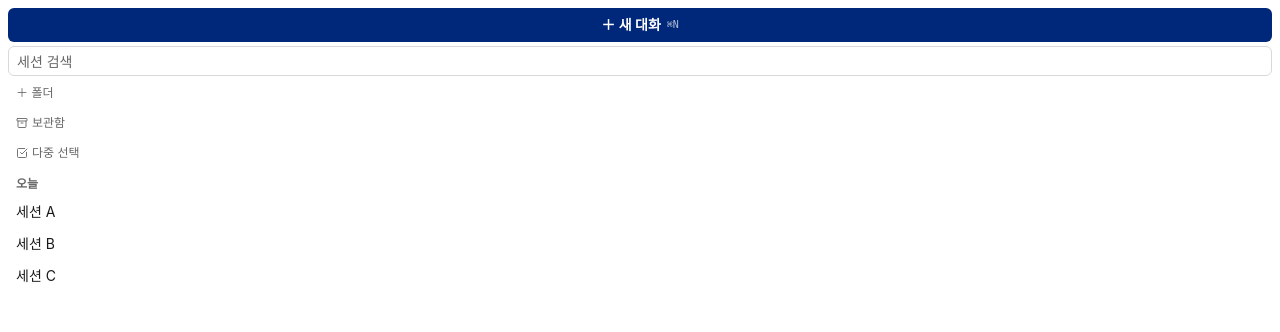
Test: SessionList › 선택 모드에서 체크박스로 3개 선택 후 일괄 보관하면 3건 모두 목록에서 사라진다(P20-T6-08)
Expected: the button "세션 A" is shown, [16,202,1264,222]
Expected: the button "세션 B" is shown, [16,234,1264,254]
Click the button "다중 선택" at (56, 152), box [8,140,1272,166]
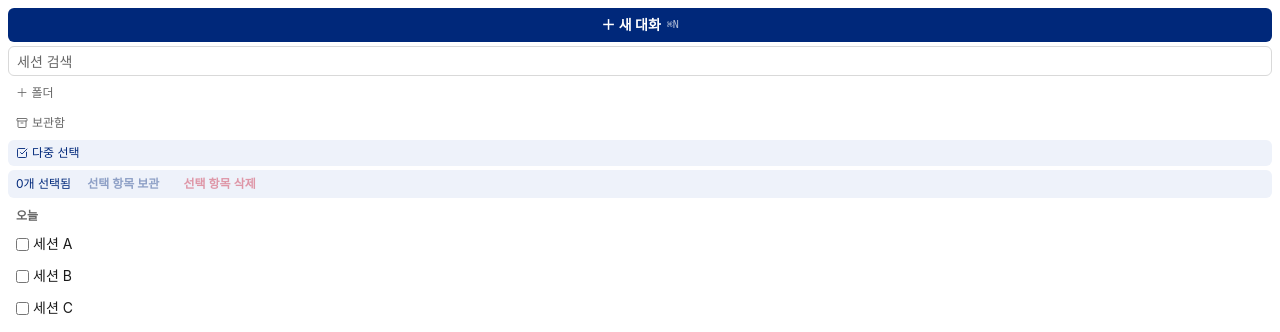
Click the checkbox named "선택: 세션 A" at (22, 244), box [16,238,29,250]
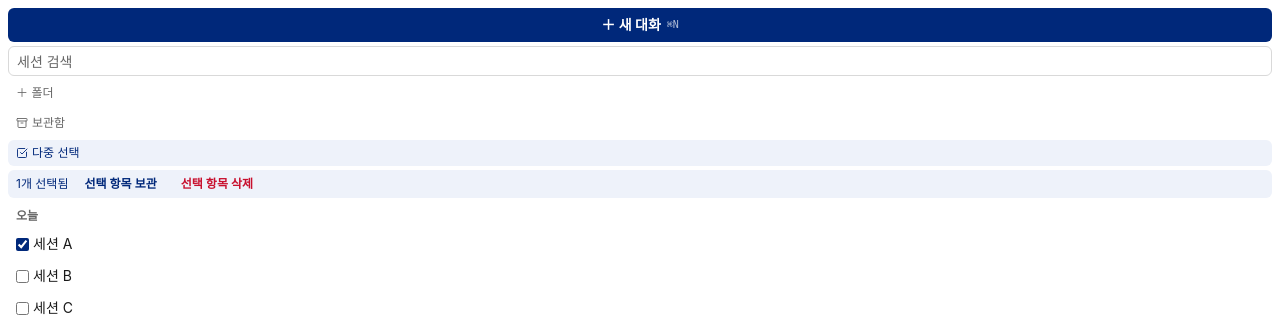
Click the checkbox named "선택: 세션 B" at (22, 276), box [16,270,29,282]
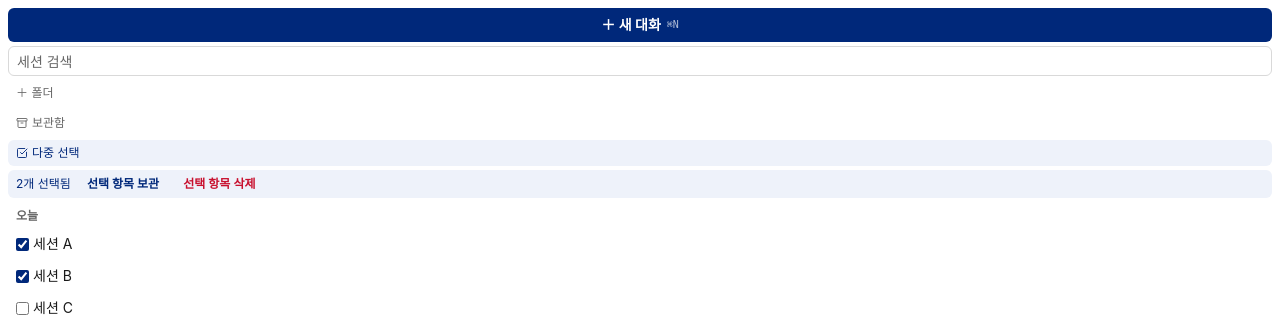
Click the checkbox named "선택: 세션 C" at (22, 308), box [16,302,29,314]
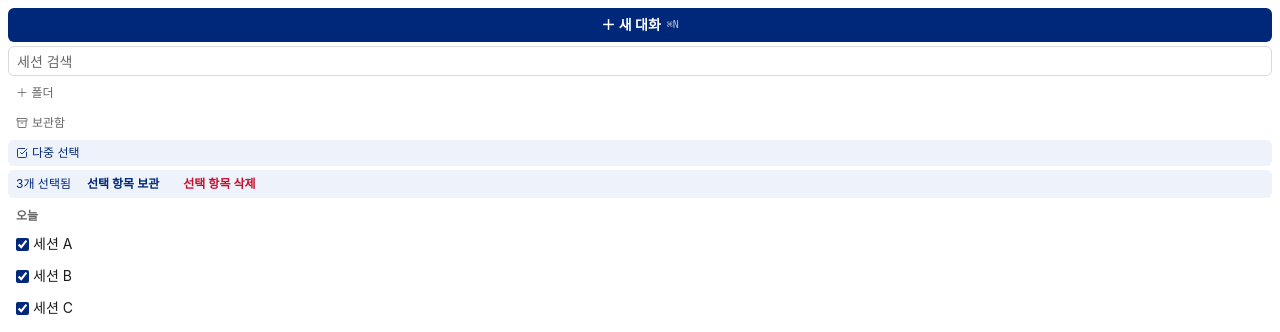
Click the button "선택 항목 보관" at (123, 184), box [79,174,167,194]
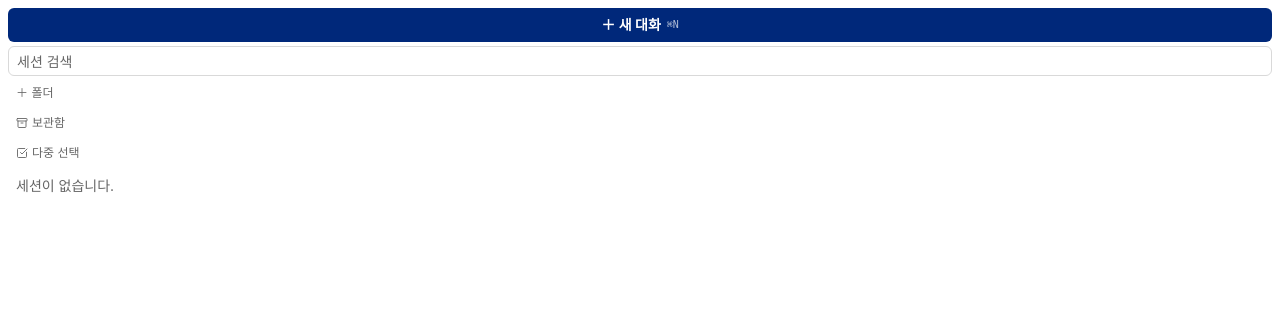
Result: the button "세션 A" is gone
Result: the button "세션 B" is gone
Result: the button "세션 C" is gone
